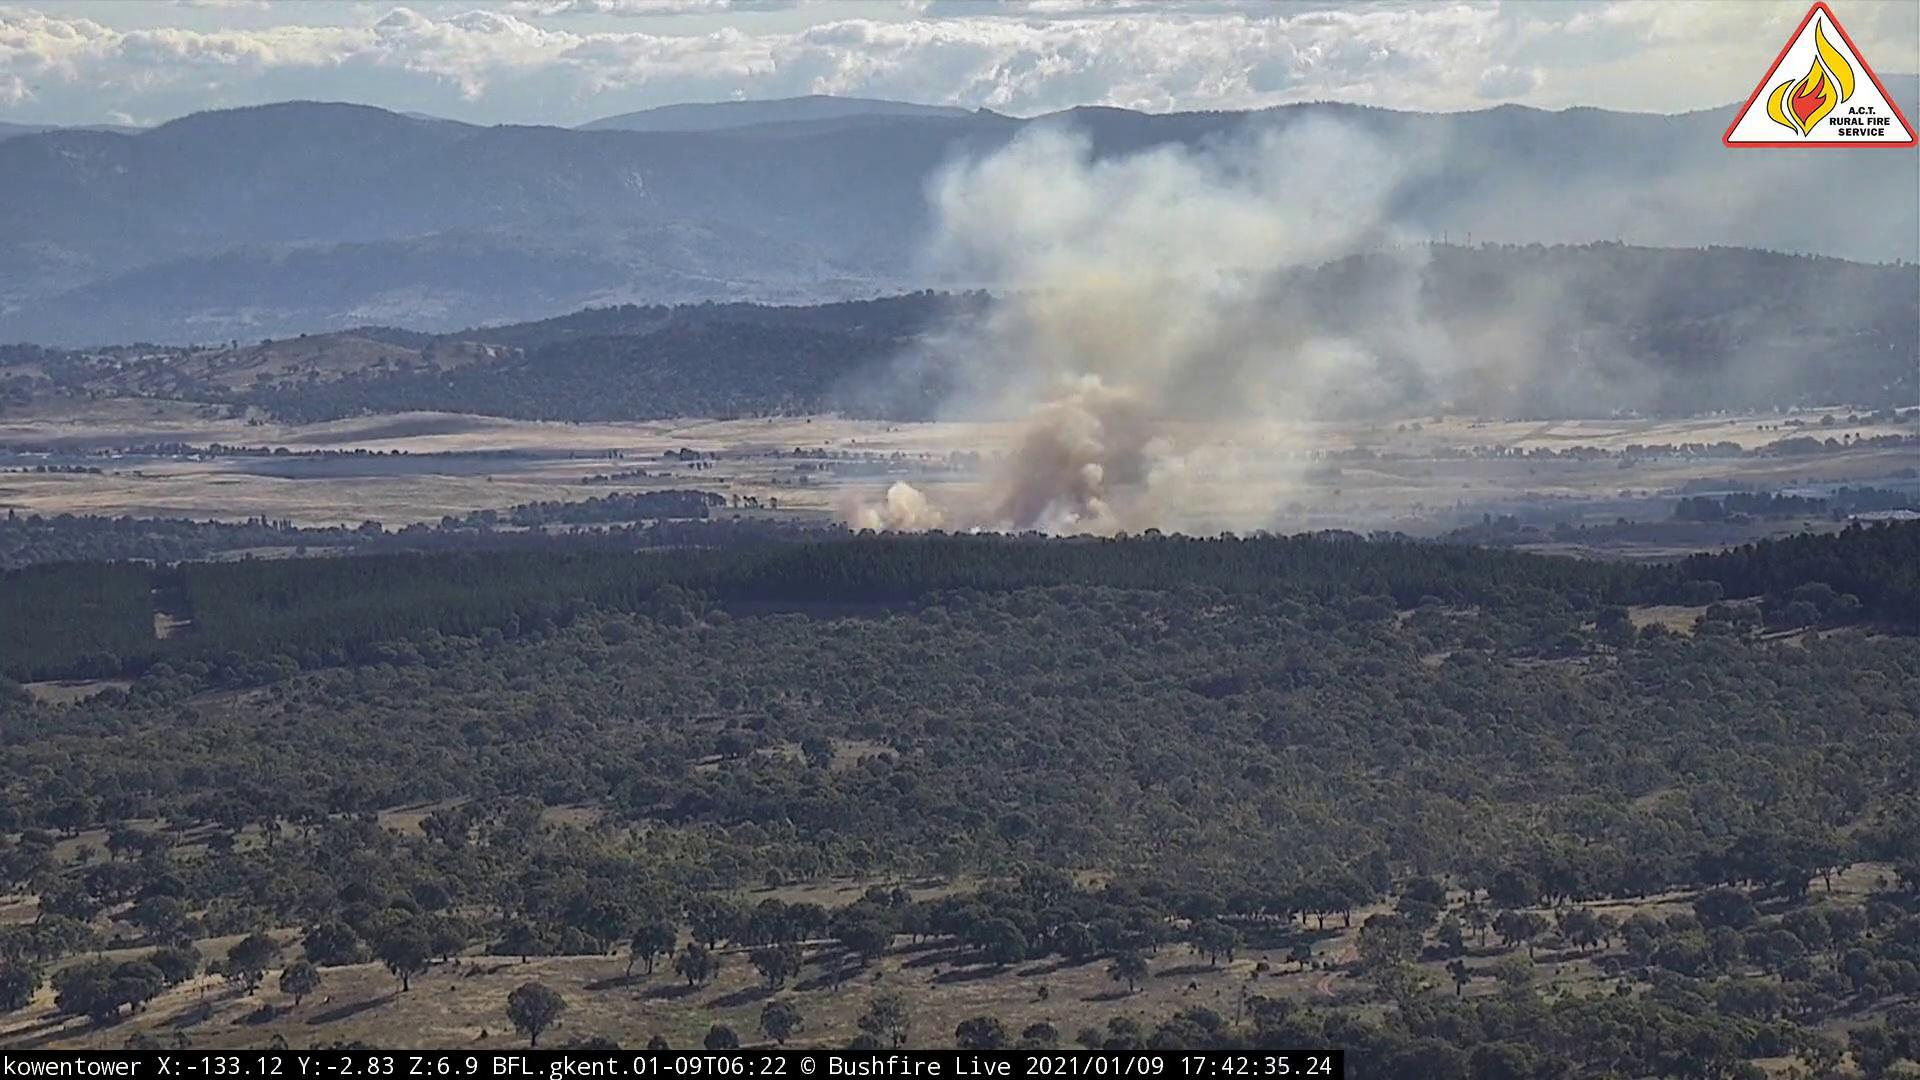instance_salient_object: (770, 108, 1721, 549)
